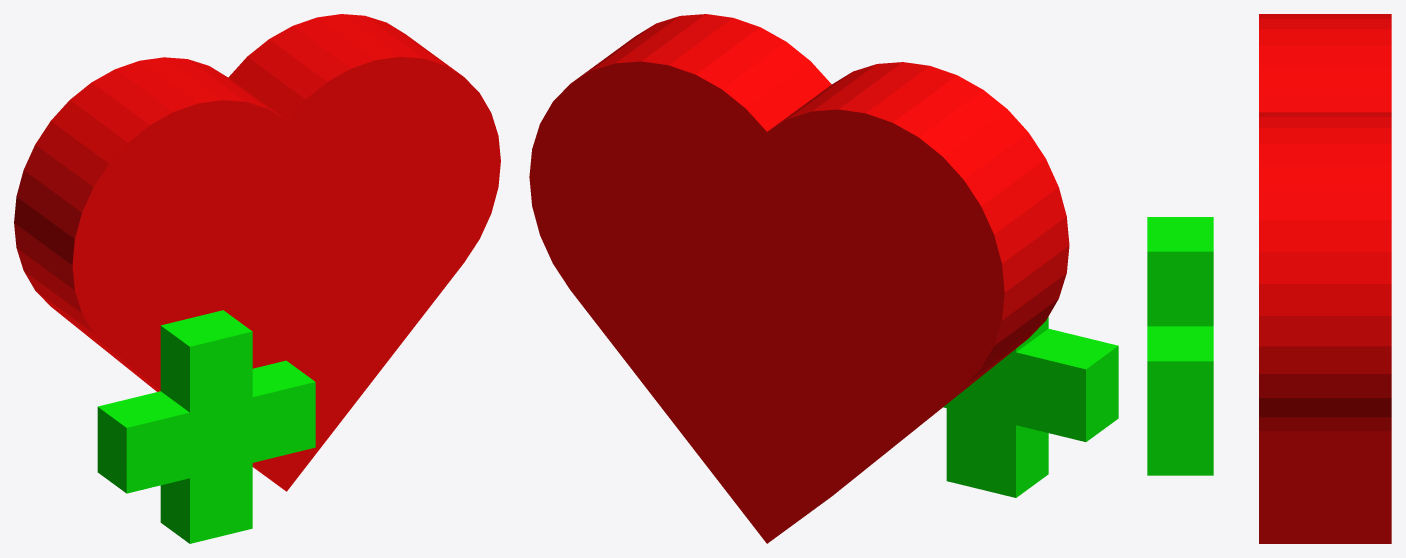
Rendered from healthBuff.fbx.
3 renders of one model, left to right at view 1: azimuth 30°, elevation 25°; view 2: azimuth 150°, elevation 25°; view 3: azimuth 270°, elevation 25°, orthographic. The views are drawn at different scales.
Parts seen in each view (by area): view 1: Cylinder; view 2: Cylinder; view 3: Cylinder.
Boxes of the visible parts, box(x1,y1,x2,y2) form: Cylinder: box(14, 14, 500, 543); Cylinder: box(529, 14, 1118, 543); Cylinder: box(1147, 14, 1391, 543).
Size of the model in its own units: 85.36 by 78.03 by 37.16.
